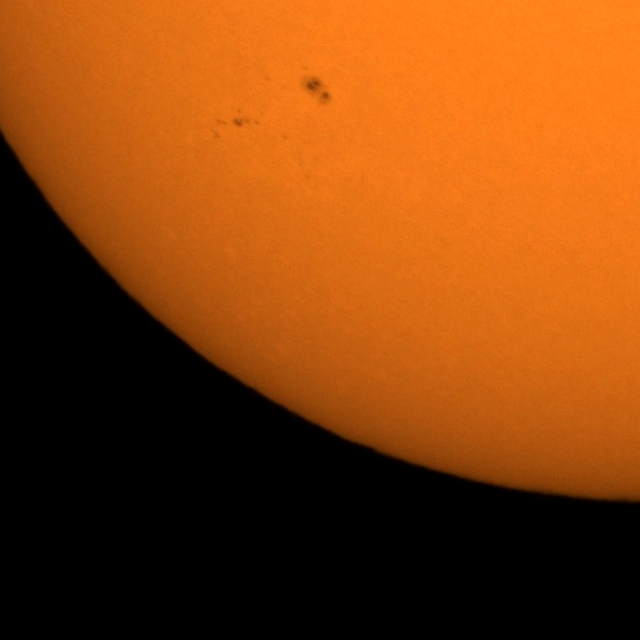sunspot: (213, 106, 259, 134), (303, 71, 333, 107)
